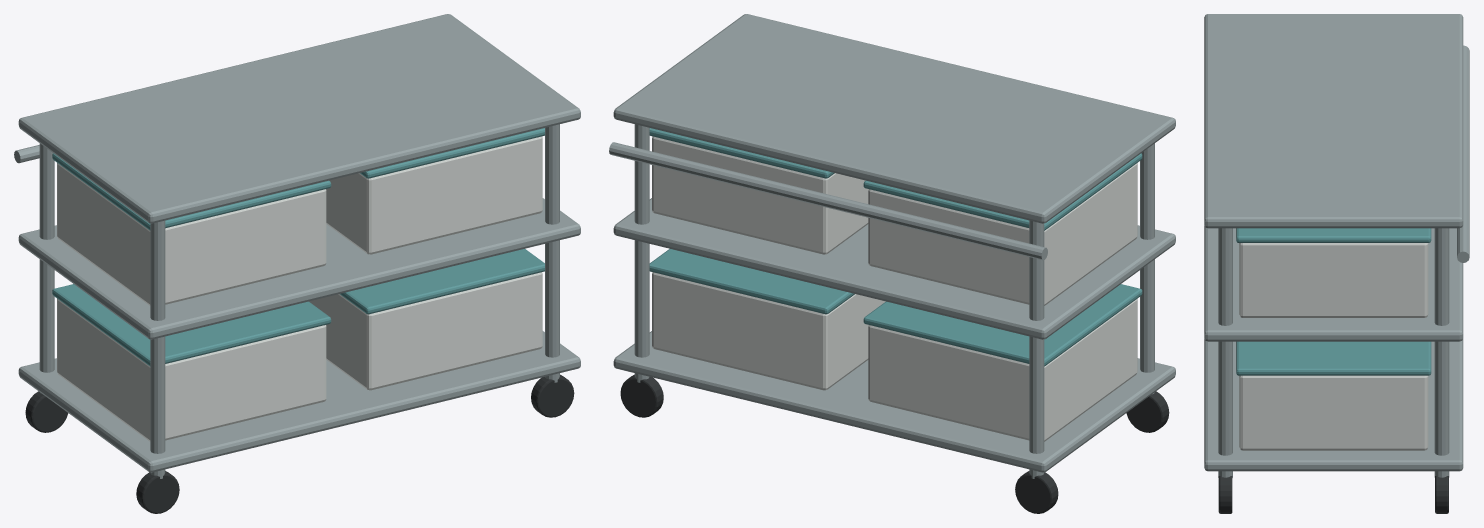
The model's file is TransferTrolley.fbx.
3 renders of one model, left to right at view 1: azimuth 30°, elevation 25°; view 2: azimuth 150°, elevation 25°; view 3: azimuth 270°, elevation 25°, orthographic. The views are drawn at different scales.
Parts seen in each view (by area): view 1: TransferTrolley; view 2: TransferTrolley; view 3: TransferTrolley.
Part boxes in pixels (<box>): TransferTrolley: <box>14,14,580,513</box>; TransferTrolley: <box>609,14,1175,513</box>; TransferTrolley: <box>1204,14,1469,513</box>.
Bounding box in the file's own units: 160 × 110 × 87.1.
